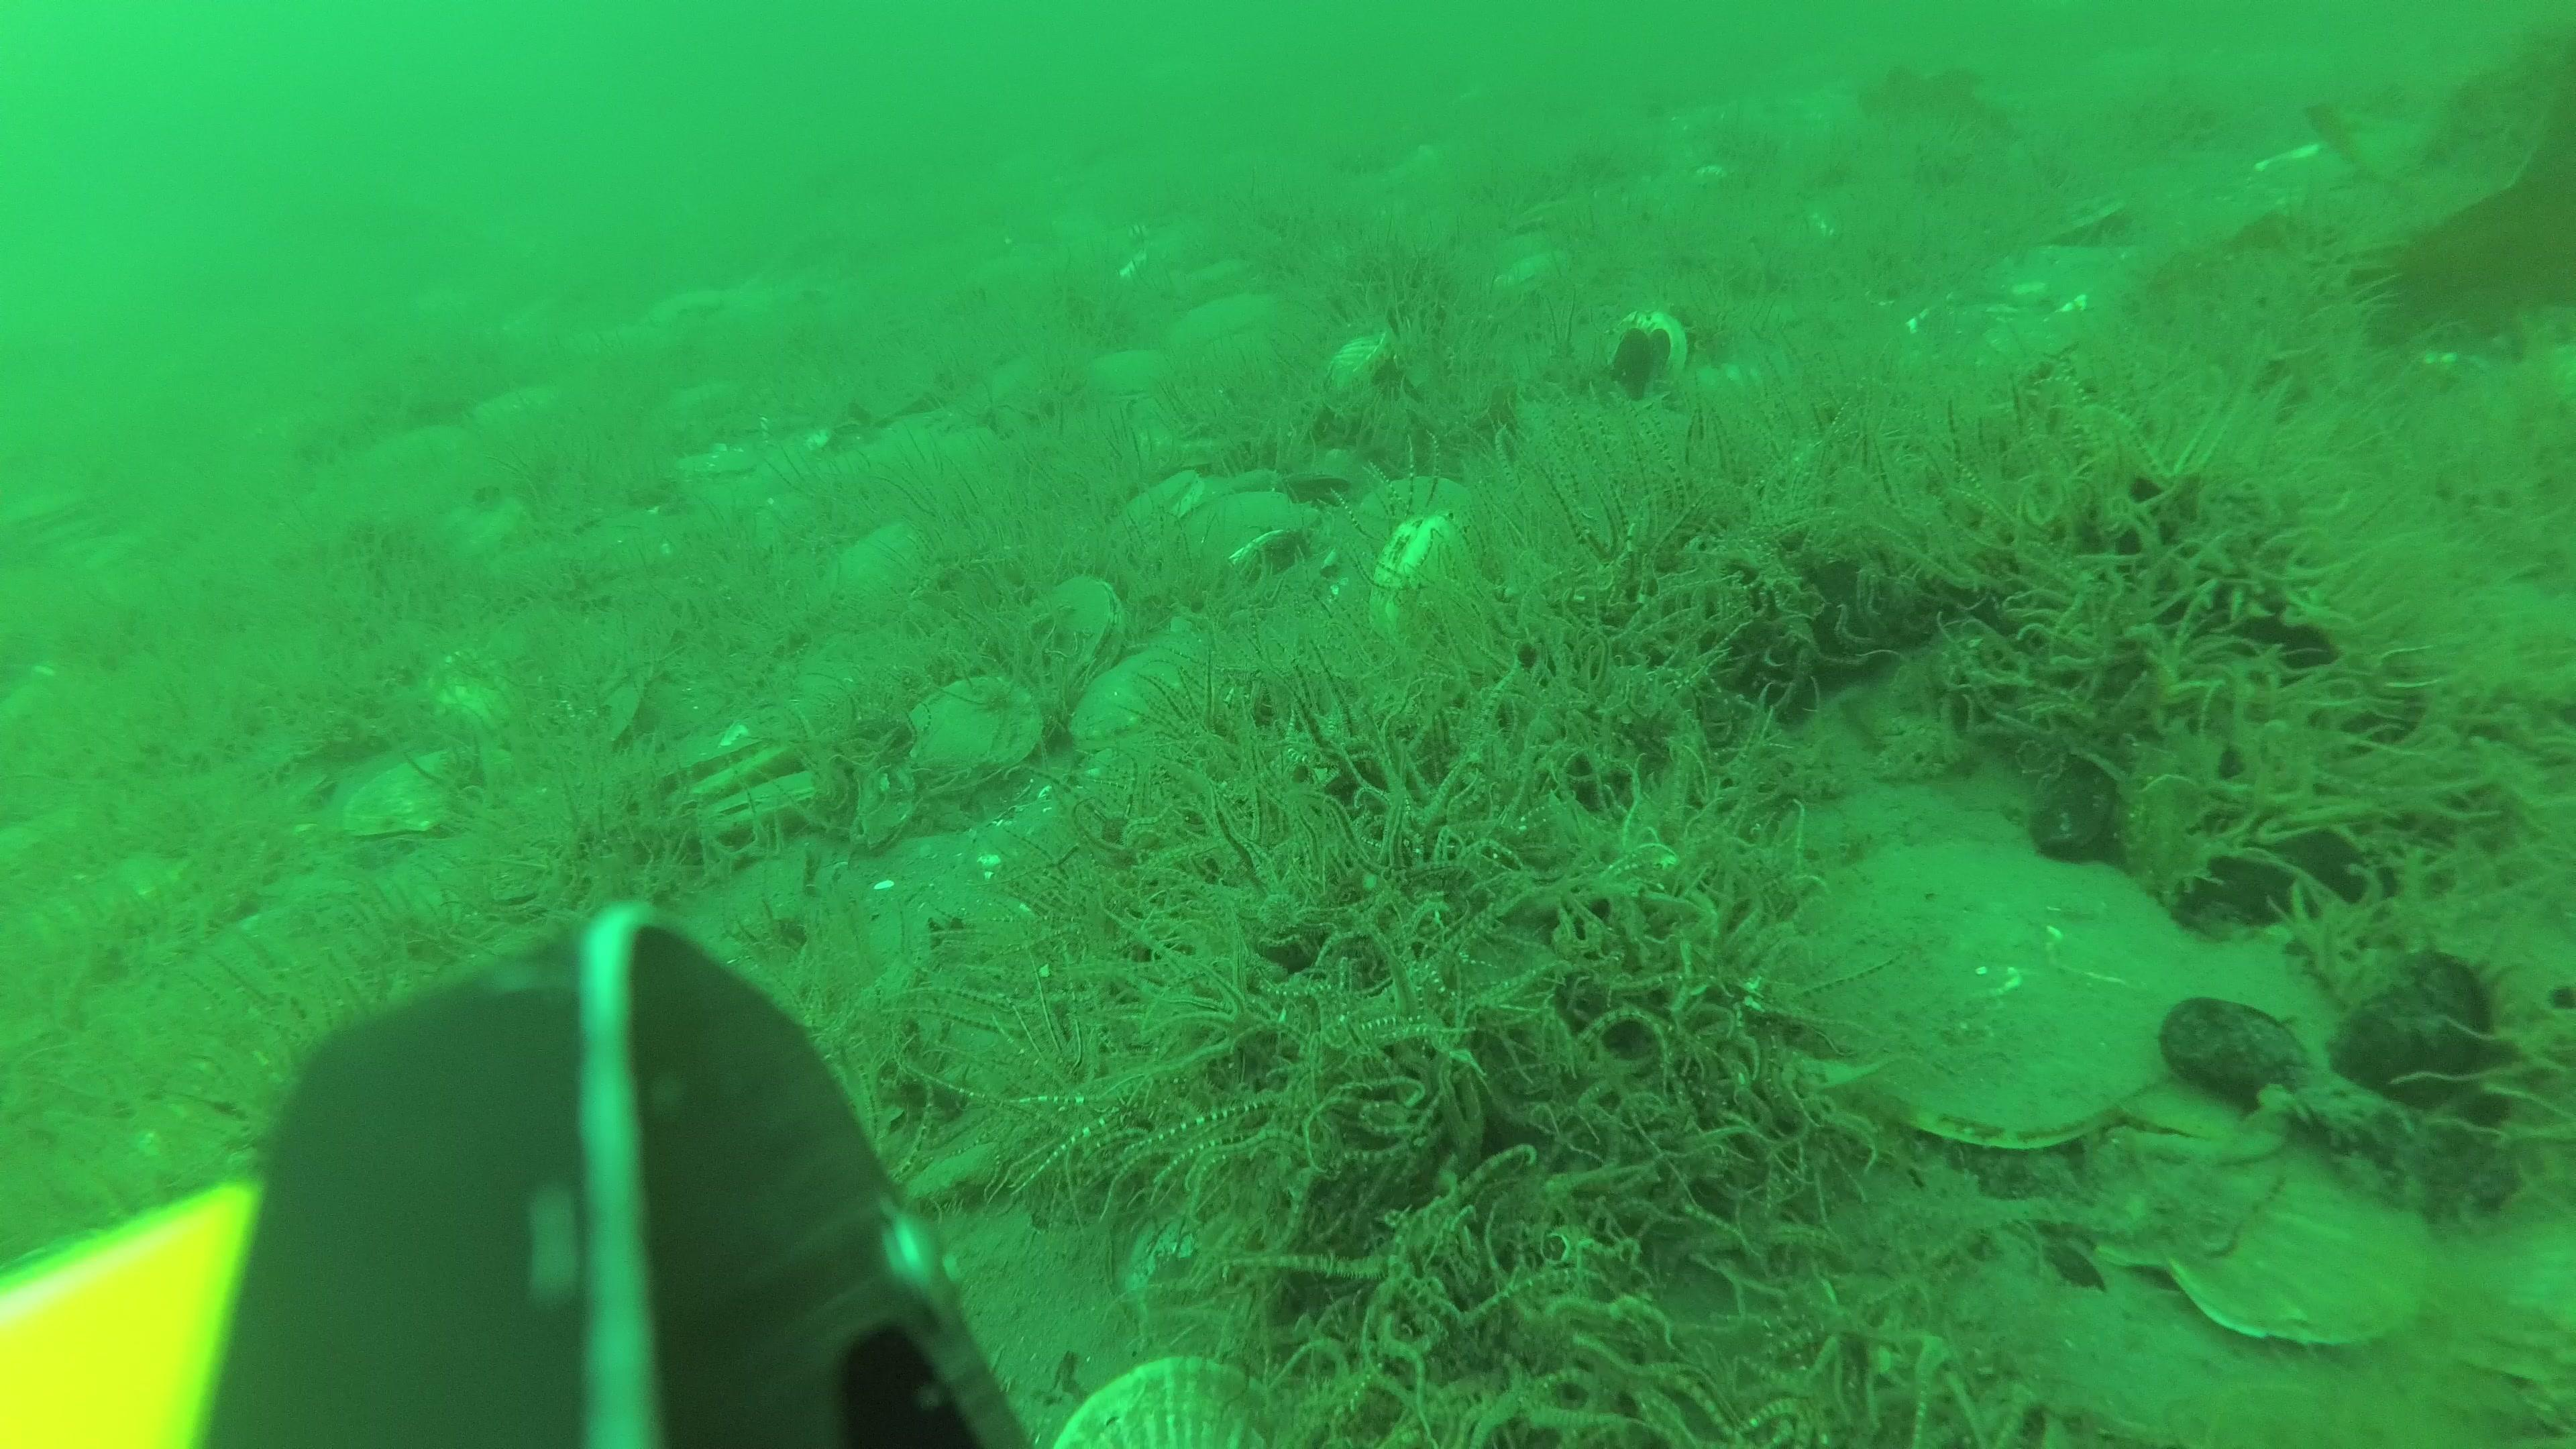scallop: (1792, 835, 2204, 1145), (2196, 1136, 2456, 1352), (2121, 954, 2328, 1161), (2088, 1051, 2295, 1249), (1046, 1355, 1292, 1449), (1131, 1219, 1284, 1346), (908, 669, 1047, 796), (341, 740, 502, 844), (1079, 637, 1205, 764), (1021, 577, 1138, 690), (1353, 469, 1472, 573), (695, 775, 840, 856), (821, 531, 943, 625), (1182, 492, 1311, 577), (667, 732, 794, 810), (1100, 474, 1217, 550), (1322, 326, 1396, 416), (1164, 297, 1274, 350), (1086, 345, 1177, 405)
